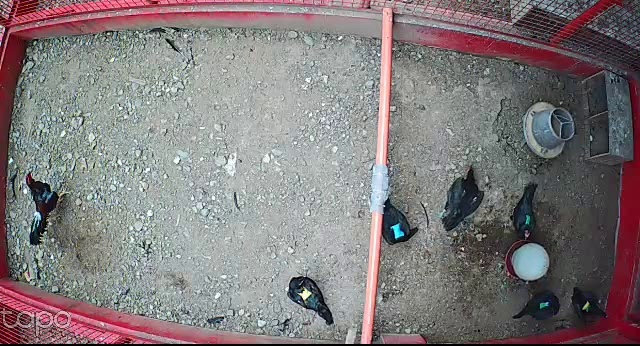Chicken: (438, 164, 489, 232), (286, 272, 336, 326), (378, 197, 422, 247), (507, 181, 541, 245), (509, 290, 563, 324), (569, 285, 610, 321)
Drinker: (503, 238, 551, 280)
Feeder: (524, 100, 574, 163)
Rooster: (23, 171, 73, 248)
Saddle_Color_Blue: (390, 223, 406, 239)
Saddle_Color_Yellow: (296, 288, 313, 300)
Saddle_Color_YellowGreen: (582, 302, 590, 311)
